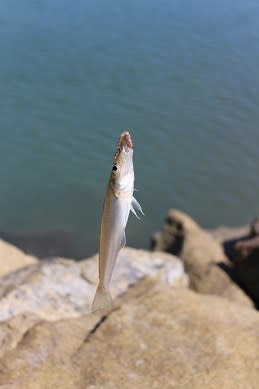kiss: (89, 127, 145, 318)
